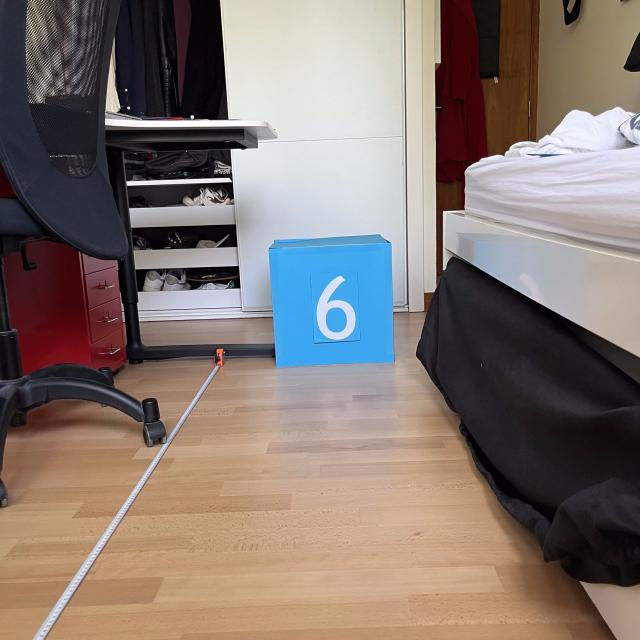box: (264, 230, 398, 368)
